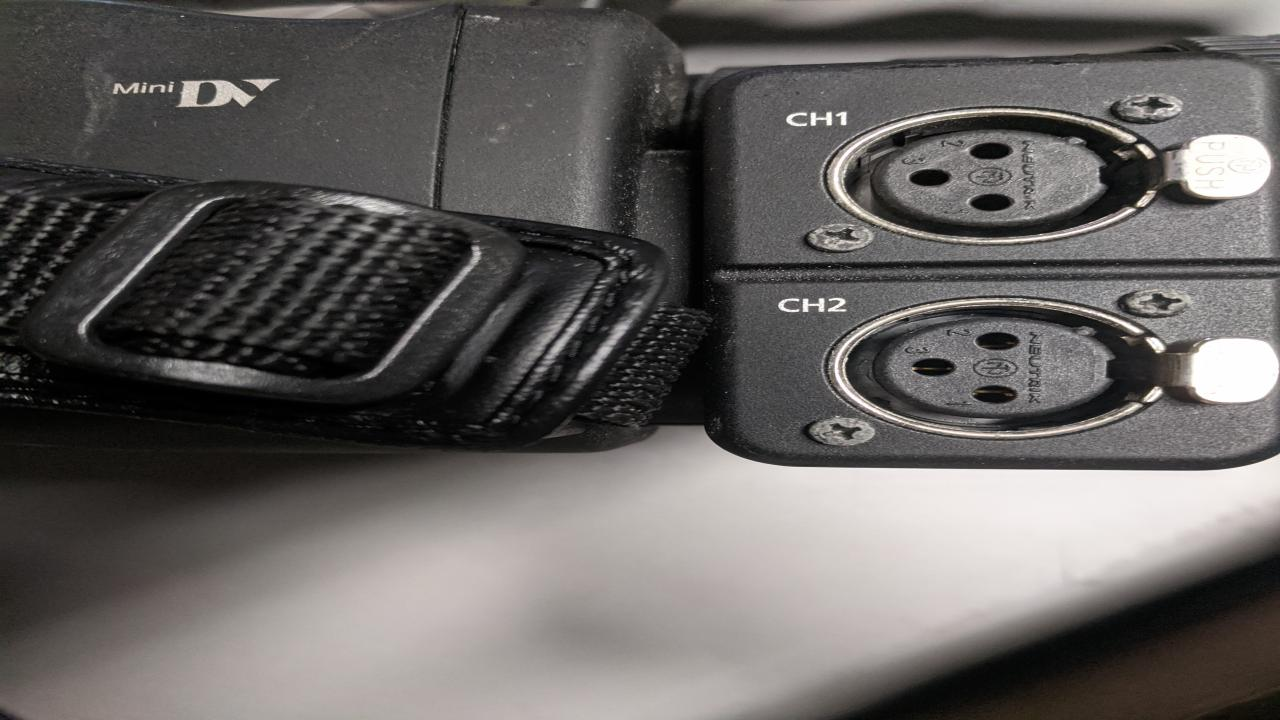CRS: (806, 416, 884, 448), (1107, 92, 1185, 124), (1122, 287, 1192, 316), (808, 224, 873, 252)
